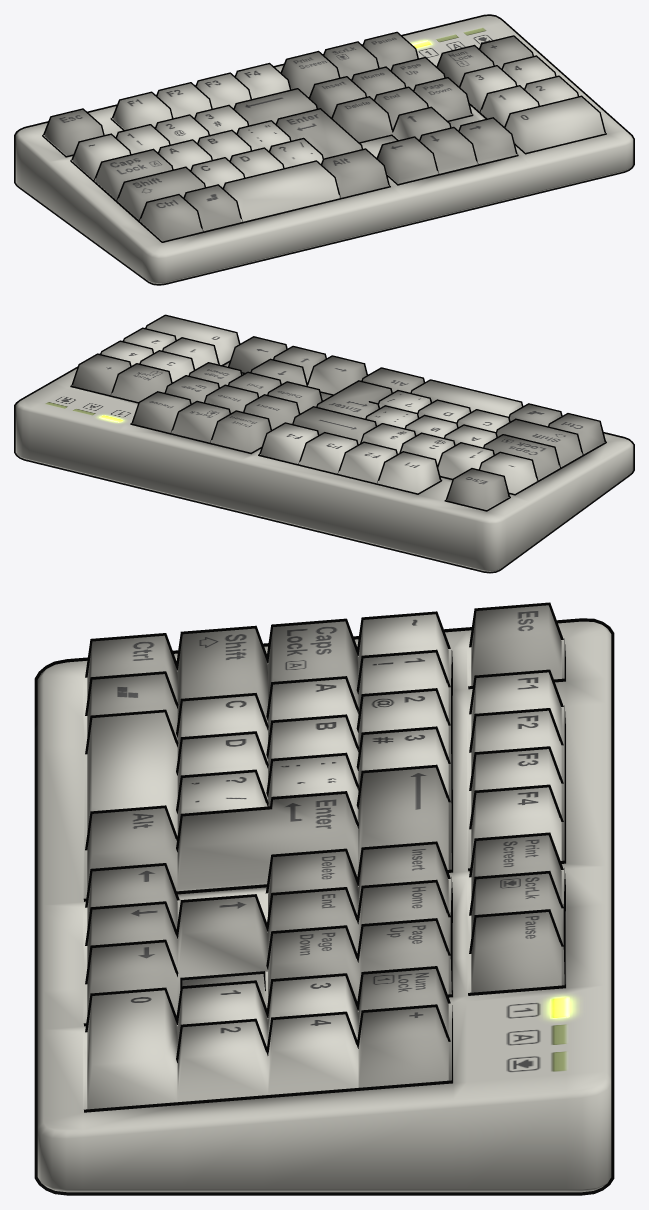
Rendered from cartoon_mini_keyboard.glb.
The picture shows the model from 3 angles, top to bottom: view 1: azimuth 30°, elevation 25°; view 2: azimuth 150°, elevation 25°; view 3: azimuth 270°, elevation 25°; orthographic projection. The views are drawn at different scales.
Visible parts, largest first — view 1: LP; view 2: LP; view 3: LP.
Part boxes in pixels (<box>): LP: <box>14,14,634,285</box>; LP: <box>14,314,634,573</box>; LP: <box>34,602,614,1195</box>.
Bounding box in the file's own units: 248 × 35.55 × 128.
Materials: 2 (1 with a texture image).
